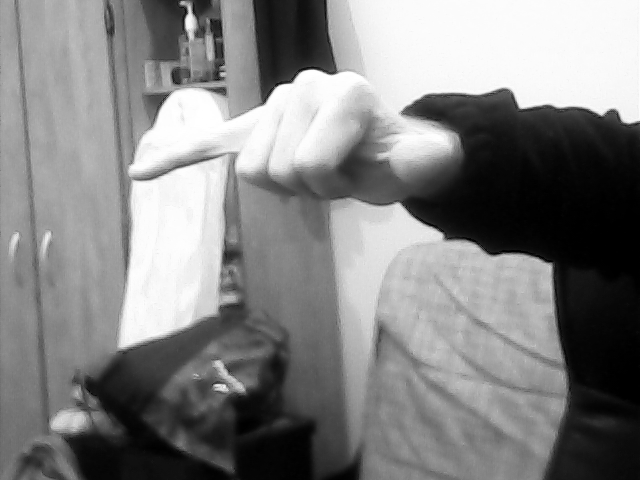aloha: (120, 67, 470, 211)
